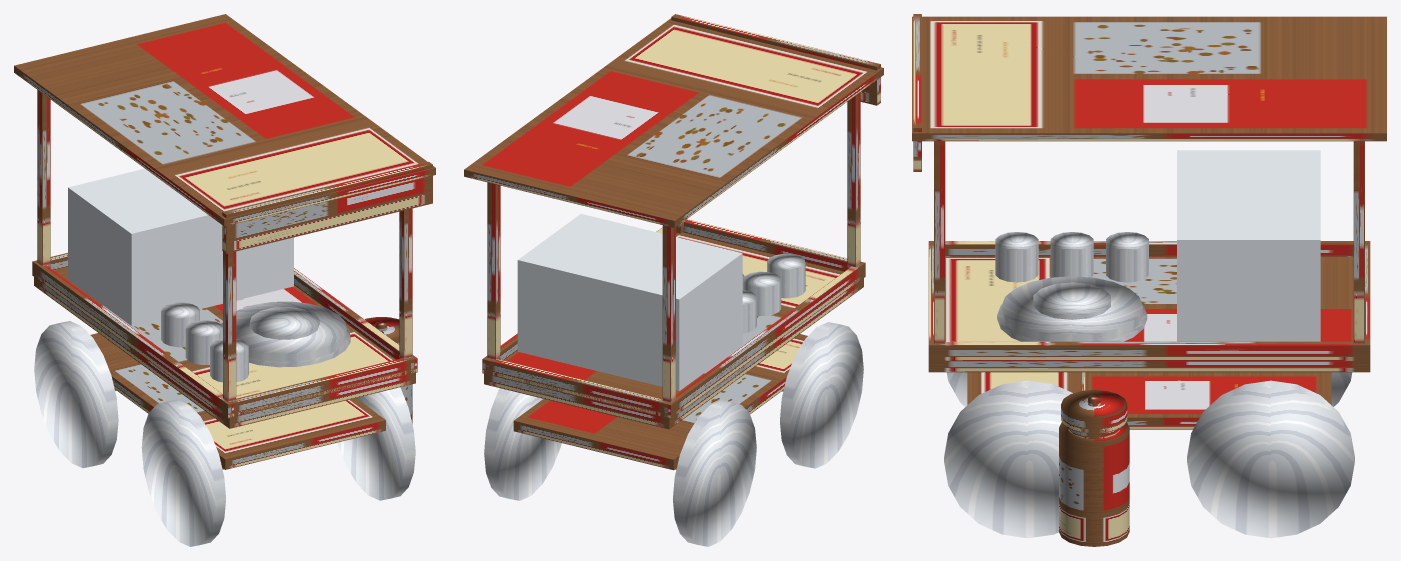
Rendered from mumbai_chaat_cart.glb.
3 views of the same model, side by side, from view 1: azimuth 30°, elevation 25°; view 2: azimuth 150°, elevation 25°; view 3: azimuth 270°, elevation 25° (orthographic). The views are drawn at different scales.
Parts seen in each view (by area): view 1: Chaat_Cart_Timber_Frame, Chaat_Cart_Spoke_Wheels, Chaat_Glass_Showcase, Chaat_Stainless_Steel_Tava, Indane_LPG_Gas_Cylinder; view 2: Chaat_Cart_Timber_Frame, Chaat_Glass_Showcase, Chaat_Cart_Spoke_Wheels, Chaat_Stainless_Steel_Tava; view 3: Chaat_Cart_Timber_Frame, Chaat_Cart_Spoke_Wheels, Chaat_Glass_Showcase, Chaat_Stainless_Steel_Tava, Indane_LPG_Gas_Cylinder.
Boxes of the visible parts, bbox=[...] form: Chaat_Cart_Timber_Frame: bbox=[14, 14, 435, 469]; Chaat_Cart_Spoke_Wheels: bbox=[34, 321, 415, 546]; Chaat_Glass_Showcase: bbox=[68, 168, 293, 325]; Chaat_Stainless_Steel_Tava: bbox=[161, 301, 350, 382]; Indane_LPG_Gas_Cylinder: bbox=[365, 317, 412, 424]; Chaat_Cart_Timber_Frame: bbox=[464, 14, 883, 470]; Chaat_Glass_Showcase: bbox=[517, 214, 742, 390]; Chaat_Cart_Spoke_Wheels: bbox=[484, 322, 863, 546]; Chaat_Stainless_Steel_Tava: bbox=[742, 254, 805, 333]; Chaat_Cart_Timber_Frame: bbox=[912, 14, 1386, 429]; Chaat_Cart_Spoke_Wheels: bbox=[944, 372, 1354, 538]; Chaat_Glass_Showcase: bbox=[1177, 150, 1320, 341]; Chaat_Stainless_Steel_Tava: bbox=[995, 232, 1148, 341]; Indane_LPG_Gas_Cylinder: bbox=[1059, 372, 1129, 546].
Size of the model in its own units: 1.56 by 2.06 by 2.15.
Materials: 4 (3 with a texture image).
